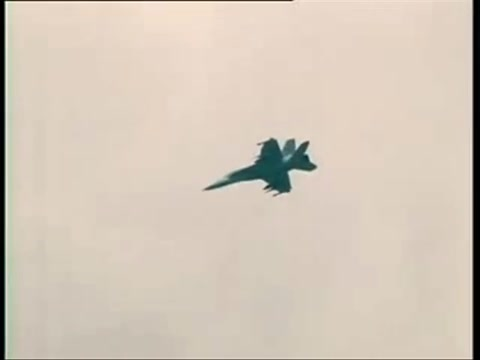aeroplane: (203, 133, 318, 200)
